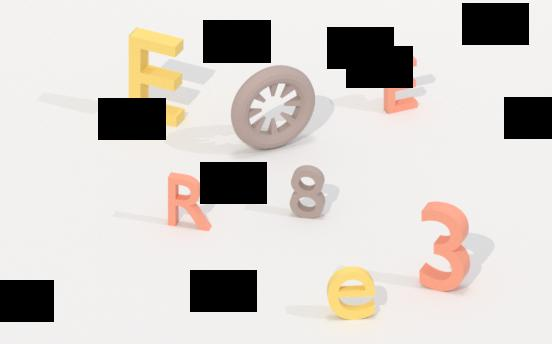3: (412, 196, 476, 298)
E-hoa: (123, 26, 192, 131), (380, 53, 421, 120)
F: (282, 163, 331, 230)
R-hoa: (164, 172, 214, 234)
e: (326, 264, 378, 324)
tron: (227, 59, 318, 154)
